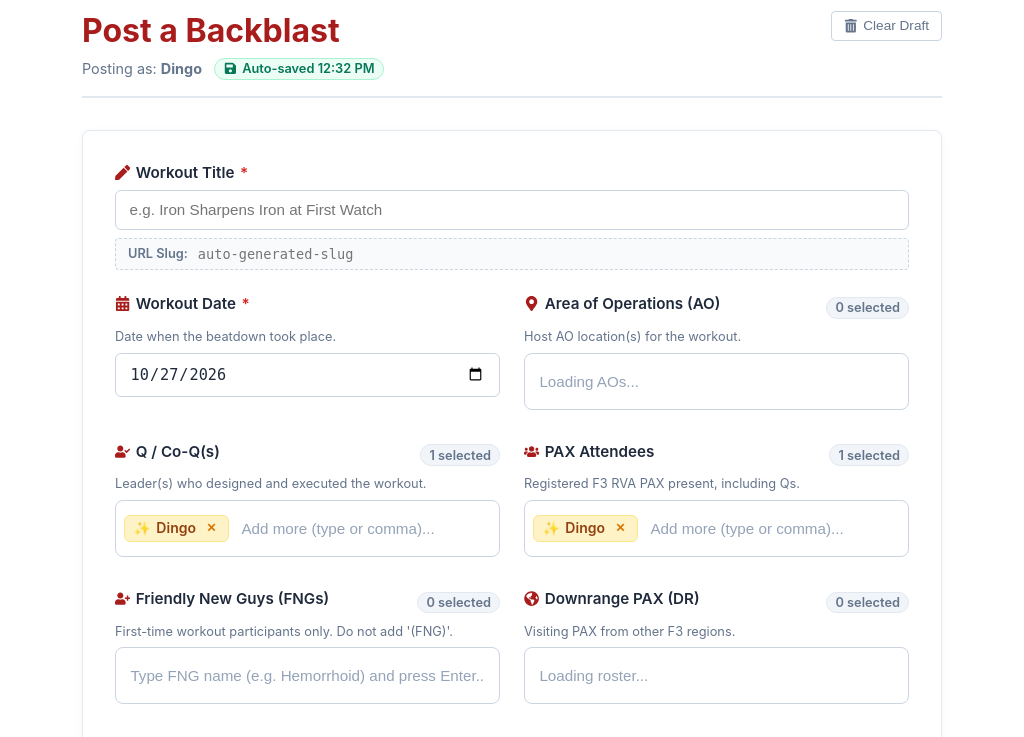
BackblastForm › displays soft warning banner when entered FNG matches an existing roster member
Expected: the heading "Post a Backblast" is shown, [82,11,384,50]
Find FNG input
Type "Dingo" into the dropdown with placeholder "Type FNG name (e.g. Hemorrhoid) and press Enter..." at (308, 676), box [124,662,491,689]
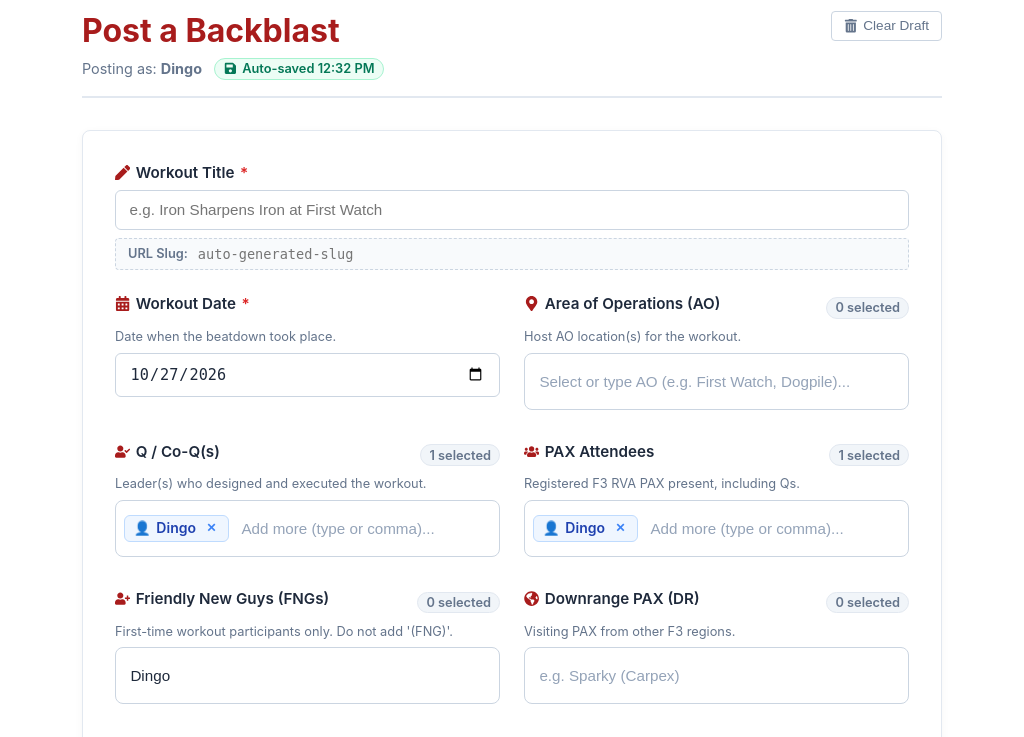
Press Enter in the dropdown with placeholder "Type FNG name (e.g. Hemorrhoid) and press Enter...", box [124,662,491,689]
(page scrolled)
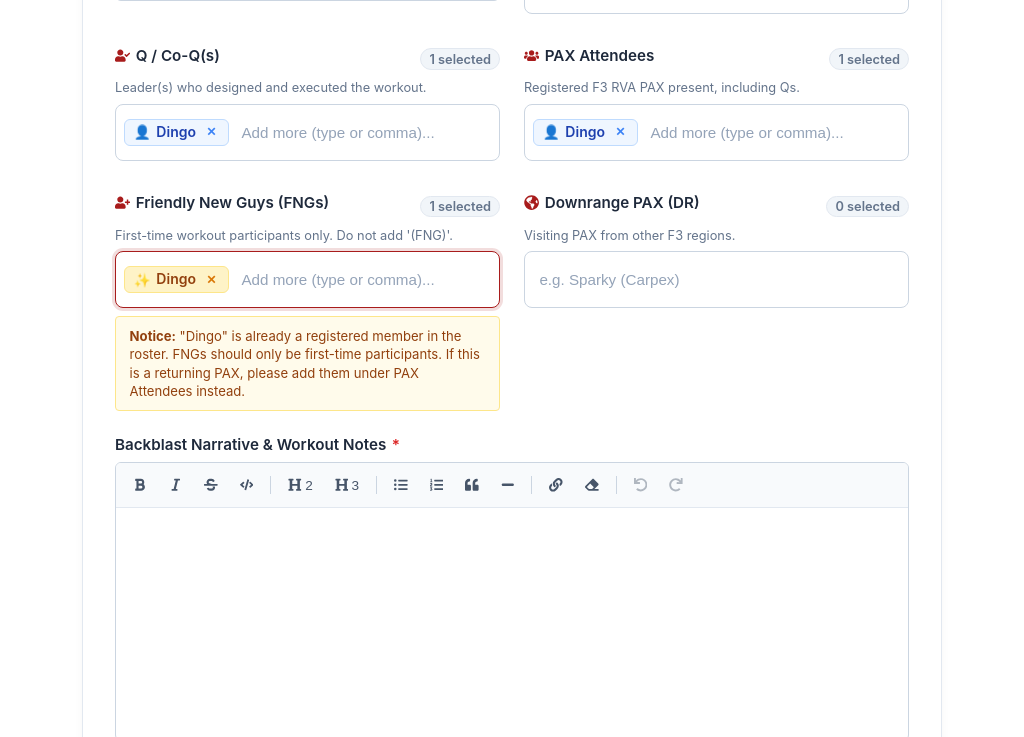
Expected: the message shows "already a registered member in the roster", [130,328,480,399]
